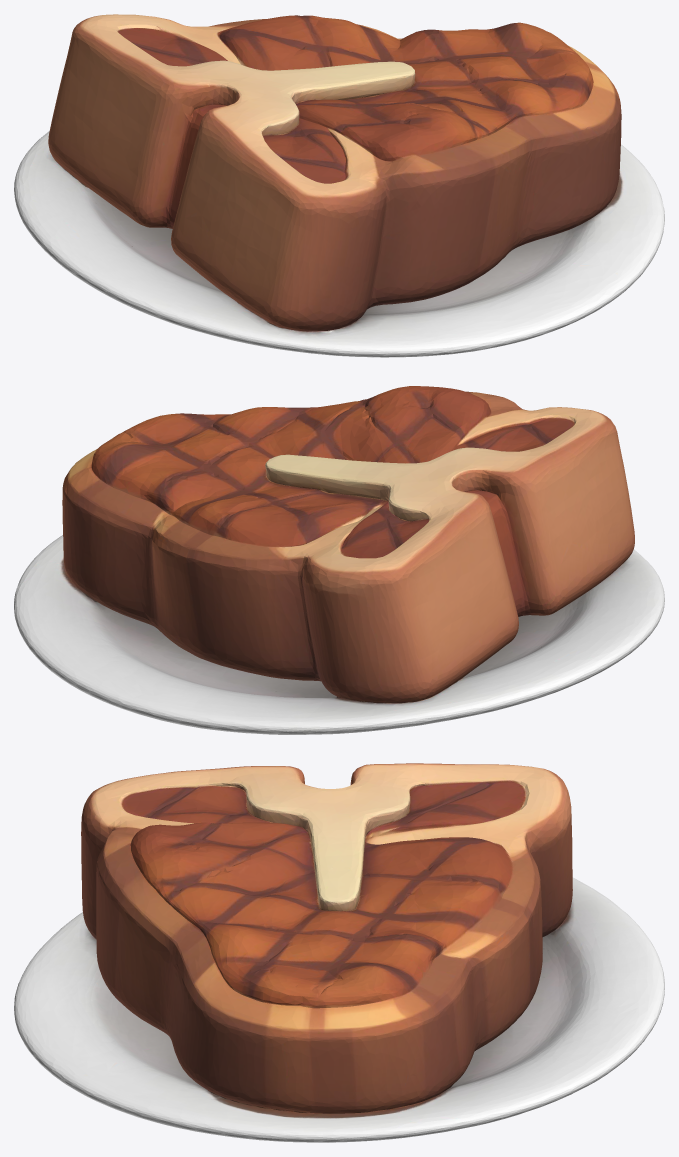
File: meal_14.glb
3 views of the same model, one above another, from view 1: azimuth 30°, elevation 25°; view 2: azimuth 150°, elevation 25°; view 3: azimuth 270°, elevation 25° (orthographic).
Visible parts, largest first — view 1: tripo_node_6f07b066-c4dc-4984-8f2e-14dd4a7cbb88; view 2: tripo_node_6f07b066-c4dc-4984-8f2e-14dd4a7cbb88; view 3: tripo_node_6f07b066-c4dc-4984-8f2e-14dd4a7cbb88.
Part boxes in pixels (box(x1,y1,x2,y2)): tripo_node_6f07b066-c4dc-4984-8f2e-14dd4a7cbb88: box(14, 14, 664, 357); tripo_node_6f07b066-c4dc-4984-8f2e-14dd4a7cbb88: box(14, 386, 664, 734); tripo_node_6f07b066-c4dc-4984-8f2e-14dd4a7cbb88: box(14, 763, 664, 1142).
Size of the model in its own units: 1 by 0.3135 by 0.999.
1 material, 1 textured.
